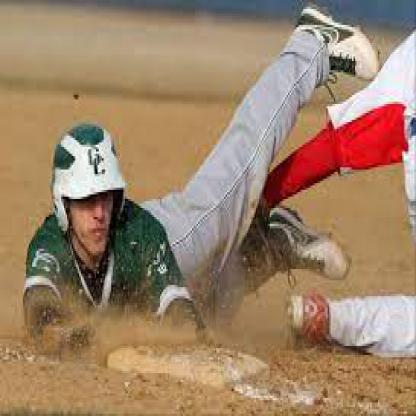Fall_Down: (13, 3, 381, 375)
